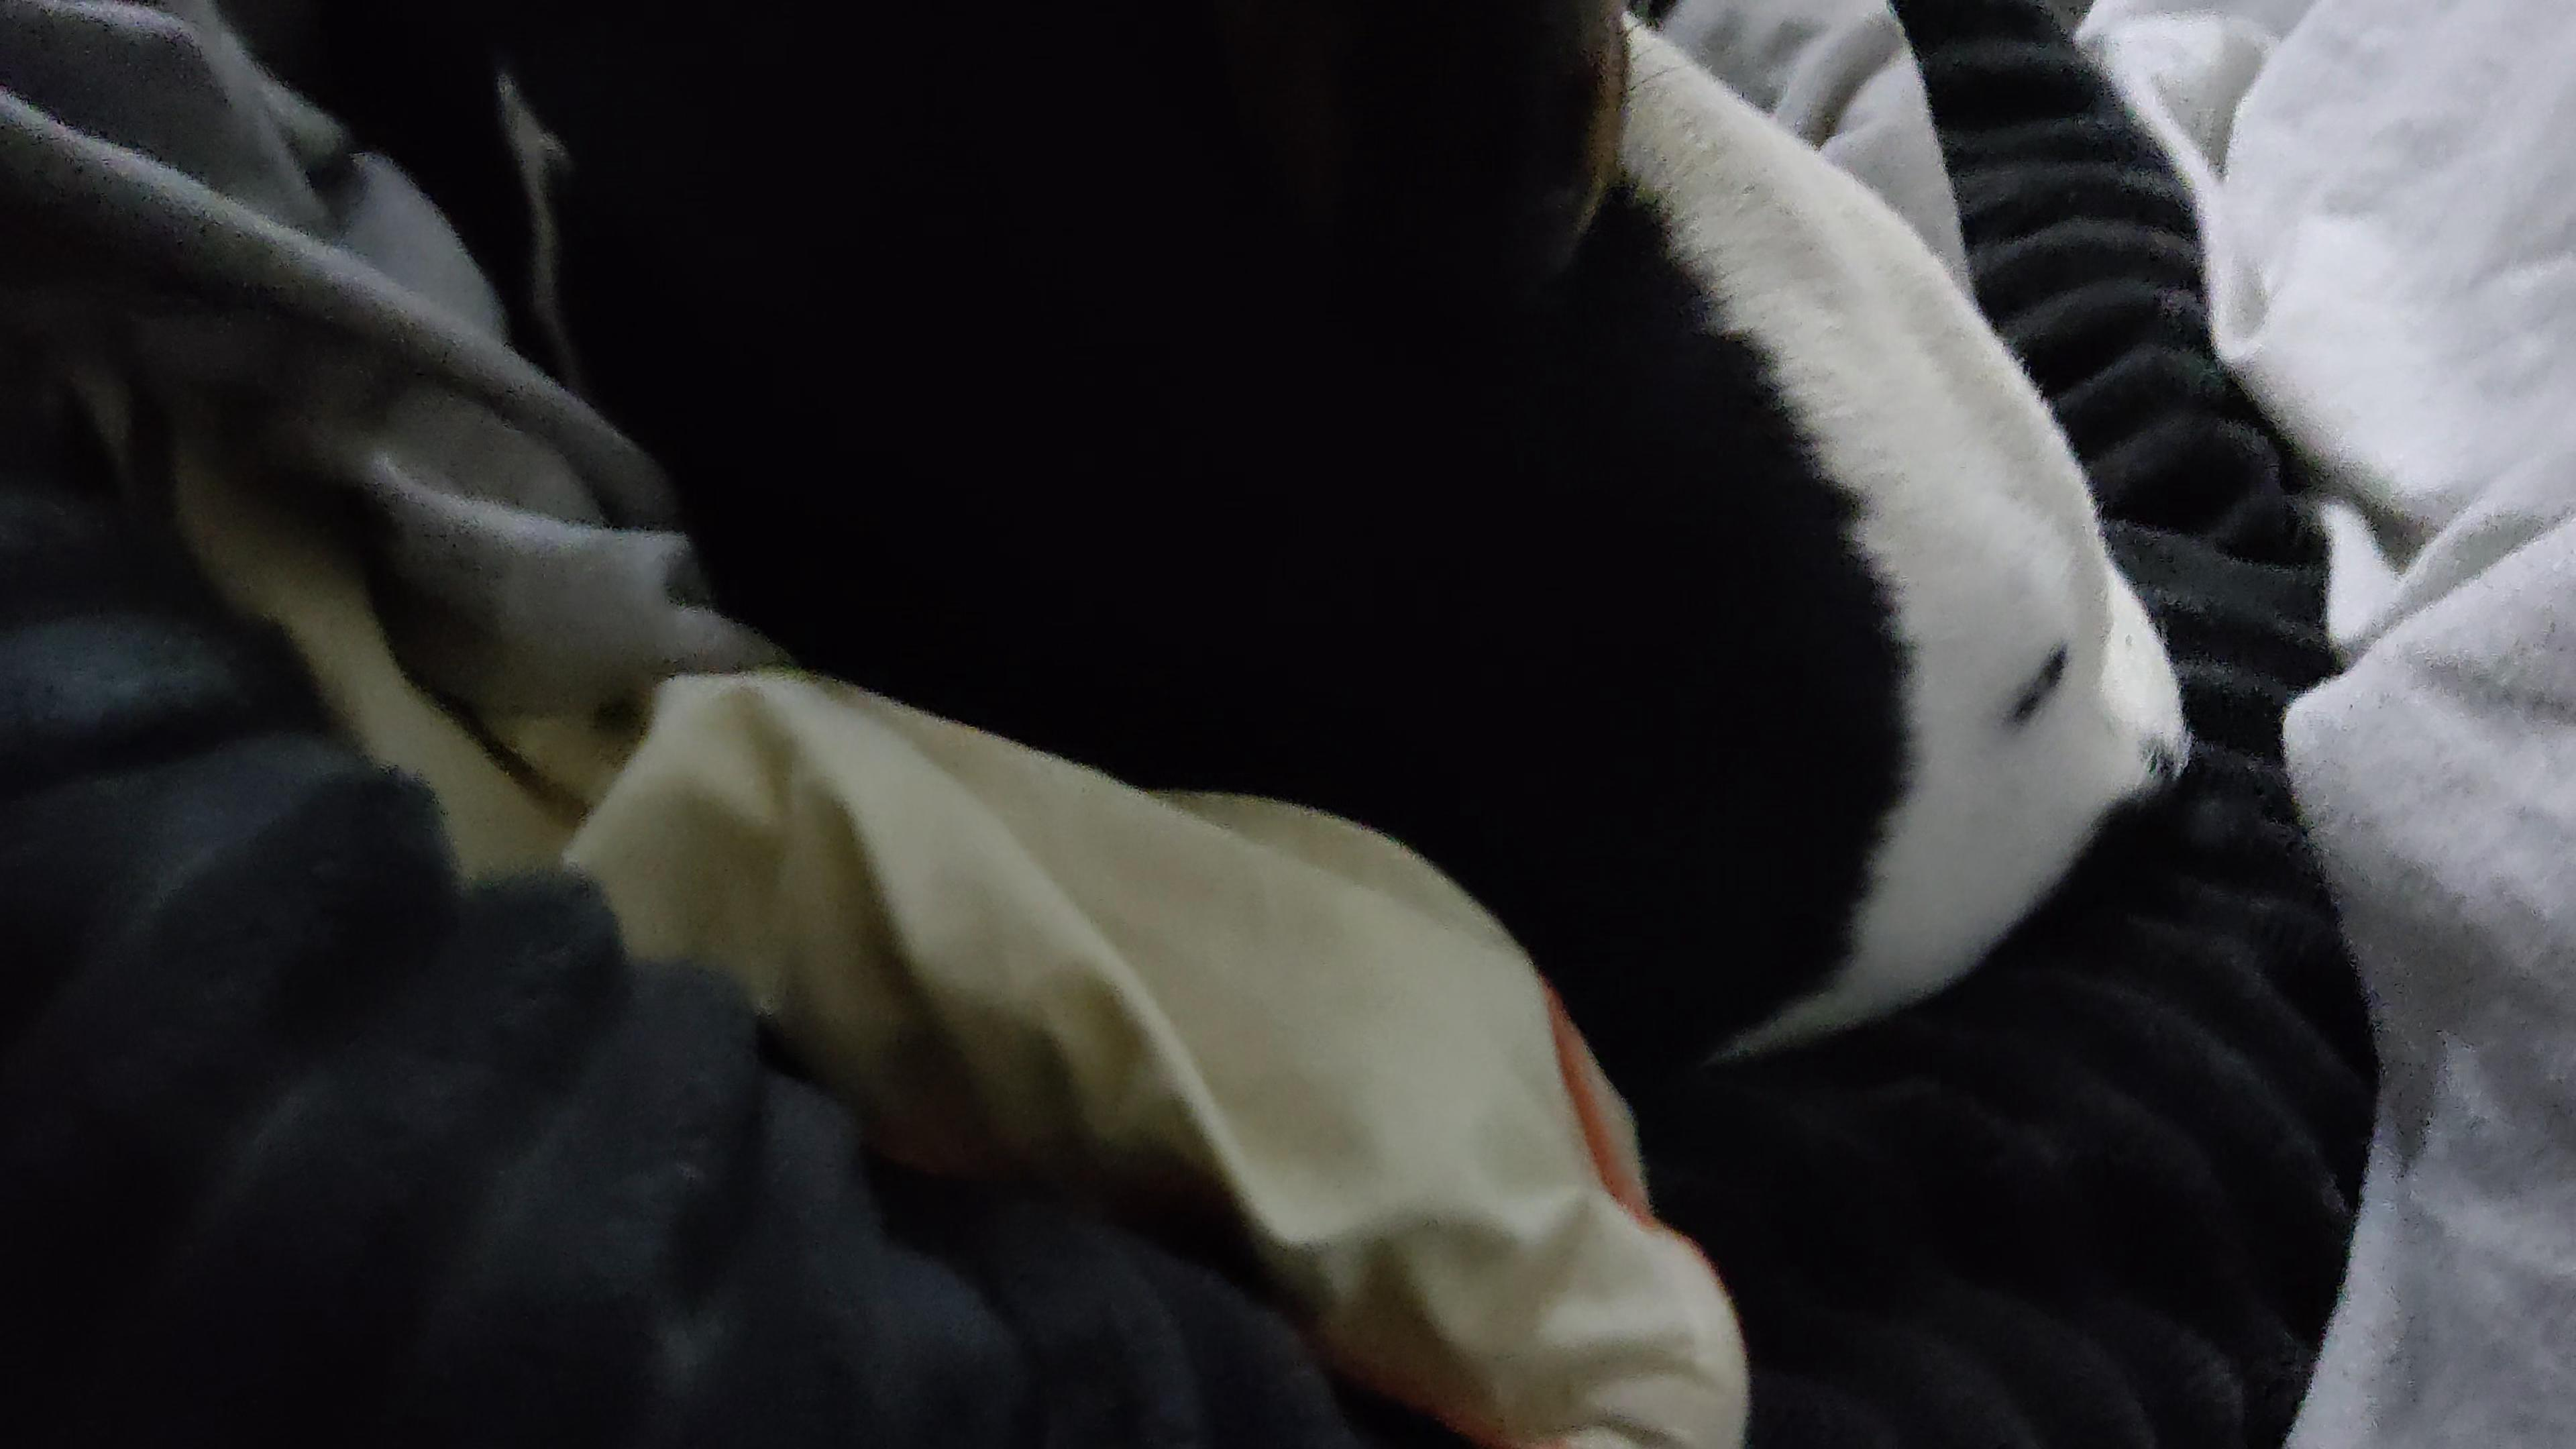Dog: (249, 0, 2227, 1113)
